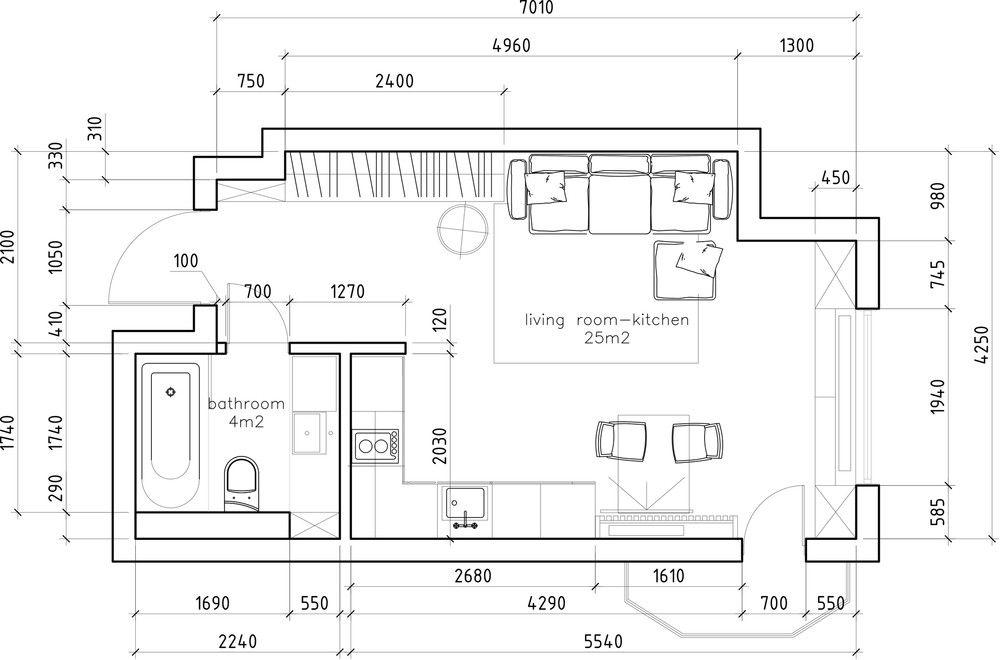balcony: (628, 563, 848, 633)
bathroom: (135, 354, 340, 540)
hallway: (216, 150, 493, 348)
kitchen: (351, 355, 856, 539)
living_room: (495, 150, 856, 351)
